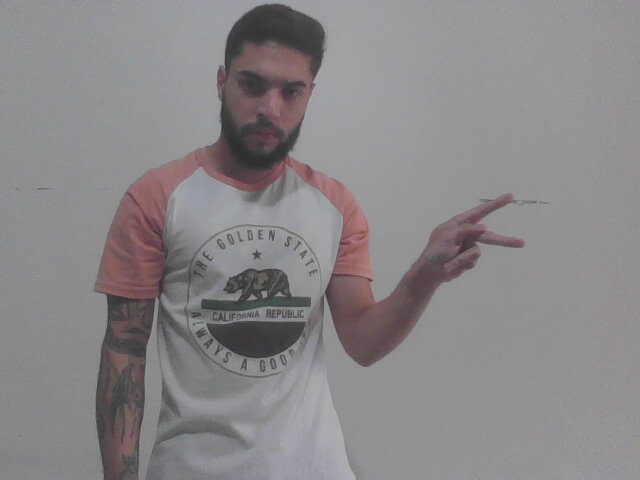k: (418, 184, 527, 304)
